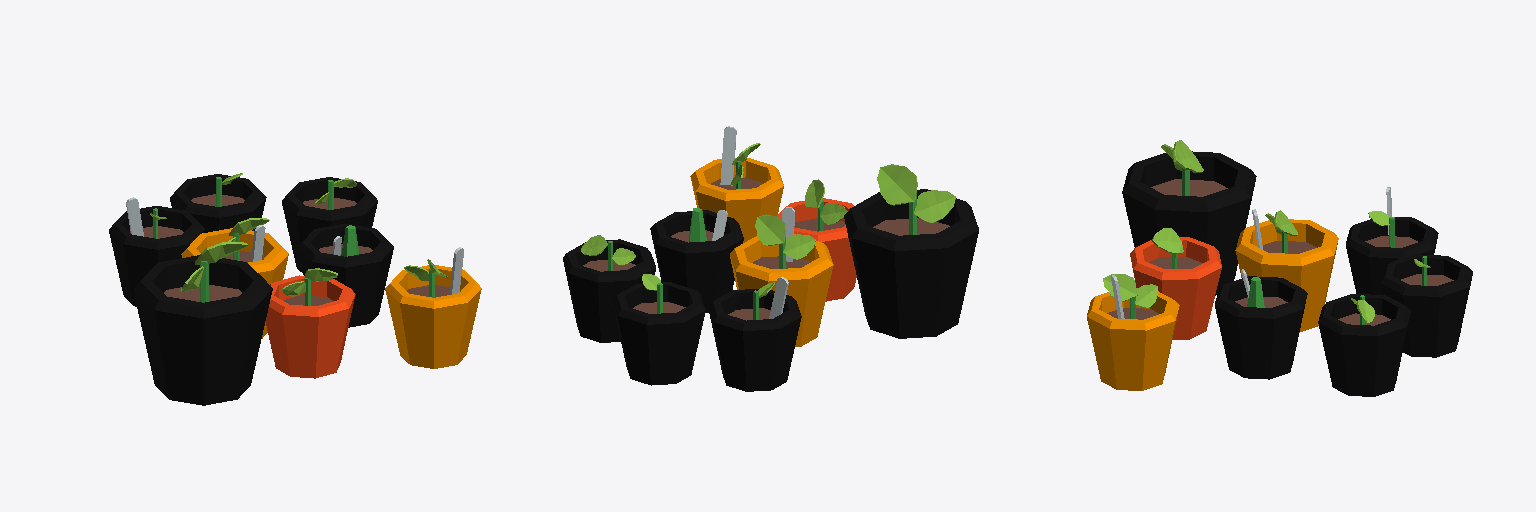
The model's file is plants.obj.
3 renders of one model, left to right at view 1: azimuth 30°, elevation 25°; view 2: azimuth 150°, elevation 25°; view 3: azimuth 270°, elevation 25°, orthographic.
Visible parts, largest first — view 1: group[number redacted], group[number redacted], group[number redacted], group[number redacted], group[number redacted], group[number redacted], group[number redacted], group[number redacted]; view 2: group[number redacted], group[number redacted], group[number redacted], group[number redacted], group[number redacted], group[number redacted], group[number redacted], group[number redacted]; view 3: group[number redacted], group[number redacted], group[number redacted], group[number redacted], group[number redacted], group[number redacted], group[number redacted], group[number redacted].
Part boxes in pixels (bbox=[...]): group[number redacted]: bbox=[133, 242, 272, 405]; group[number redacted]: bbox=[385, 247, 481, 368]; group[number redacted]: bbox=[265, 268, 355, 378]; group[number redacted]: bbox=[298, 224, 393, 327]; group[number redacted]: bbox=[109, 197, 204, 306]; group[number redacted]: bbox=[282, 177, 377, 272]; group[number redacted]: bbox=[170, 173, 266, 232]; group[number redacted]: bbox=[181, 218, 288, 338]; group[number redacted]: bbox=[844, 164, 978, 338]; group[number redacted]: bbox=[708, 277, 801, 391]; group[number redacted]: bbox=[612, 274, 705, 385]; group[number redacted]: bbox=[730, 207, 833, 346]; group[number redacted]: bbox=[650, 208, 743, 312]; group[number redacted]: bbox=[563, 235, 655, 342]; group[number redacted]: bbox=[690, 126, 783, 242]; group[number redacted]: bbox=[777, 179, 856, 301]; group[number redacted]: bbox=[1122, 140, 1256, 295]; group[number redacted]: bbox=[1087, 274, 1179, 390]; group[number redacted]: bbox=[1215, 269, 1307, 379]; group[number redacted]: bbox=[1318, 294, 1410, 396]; group[number redacted]: bbox=[1380, 254, 1472, 357]; group[number redacted]: bbox=[1235, 209, 1338, 332]; group[number redacted]: bbox=[1130, 228, 1221, 339]; group[number redacted]: bbox=[1346, 187, 1438, 294].
Bounding box in the file's own units: 0.3492 × 0.1542 × 0.3735.